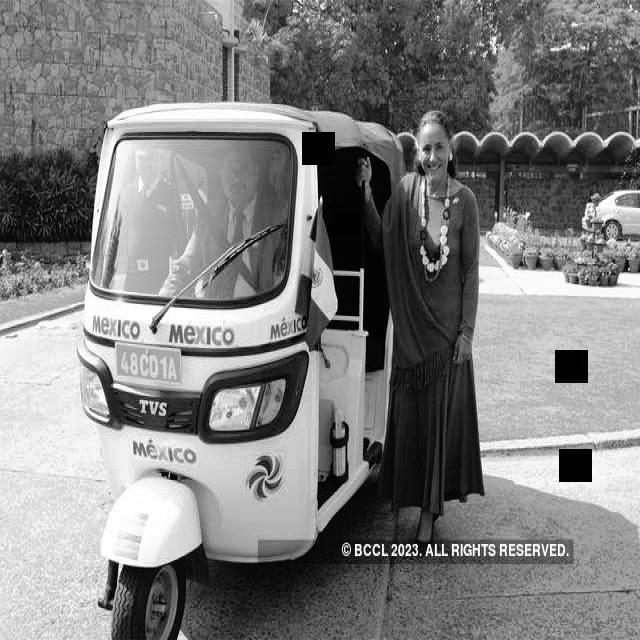Auto-Rickshaw: (69, 96, 458, 640)
